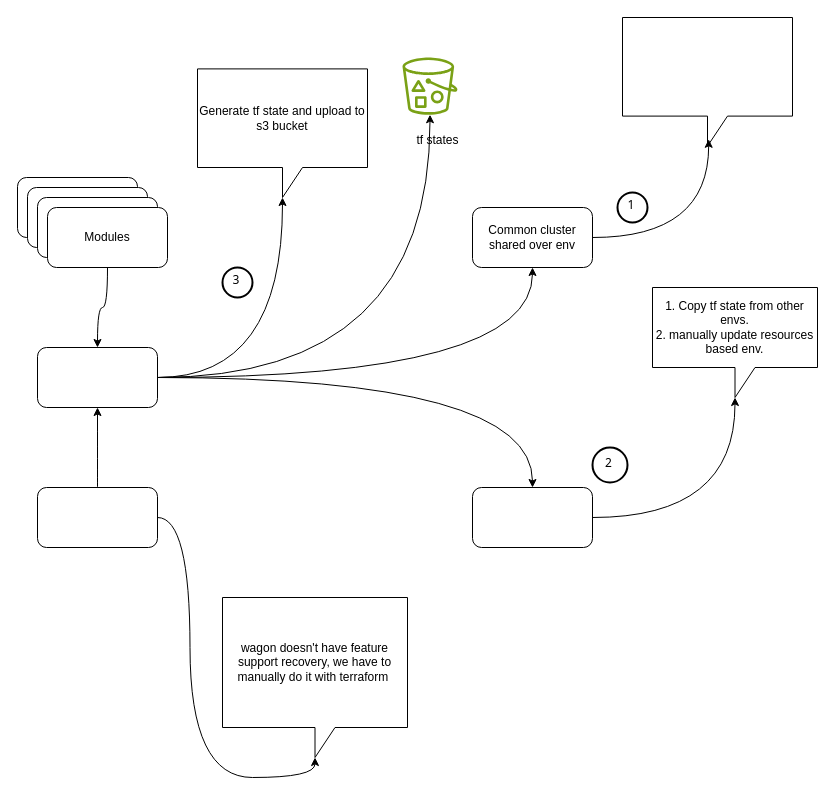
Some shapes in this 835 by 795 pixel diagram are drawn without their labels. The centre of each missing label's shape, as x and y in pixels:
"Copy the shared common cluster tf states from the same env" goes at (707,81).
"Pay team ecs tasks recovery" goes at (532,517).
"Terraform" goes at (97,377).
"Wagon (TF client)" goes at (97,517).
